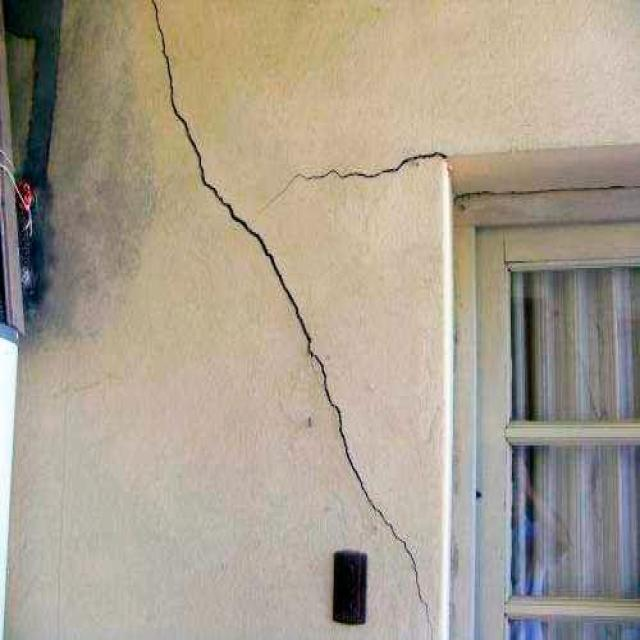crack: (149, 1, 433, 626), (256, 153, 449, 211)
